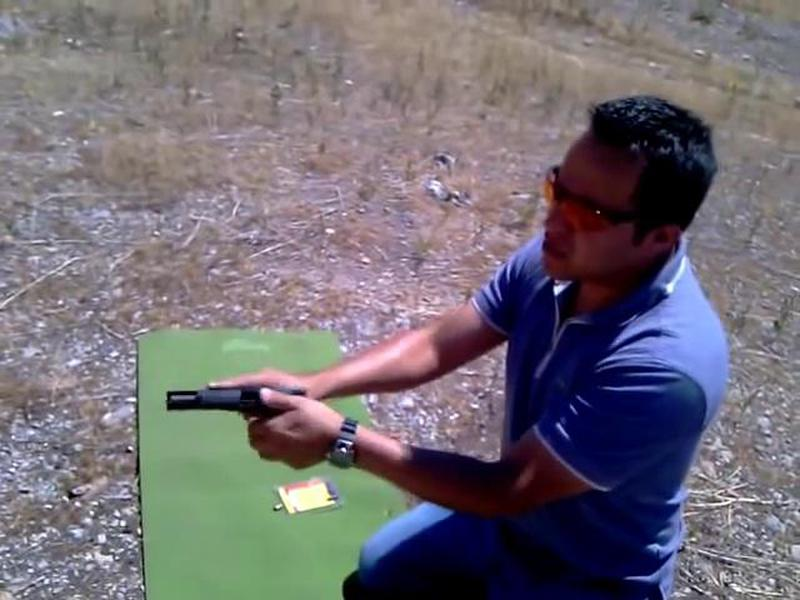Pistola: (155, 377, 317, 429)
